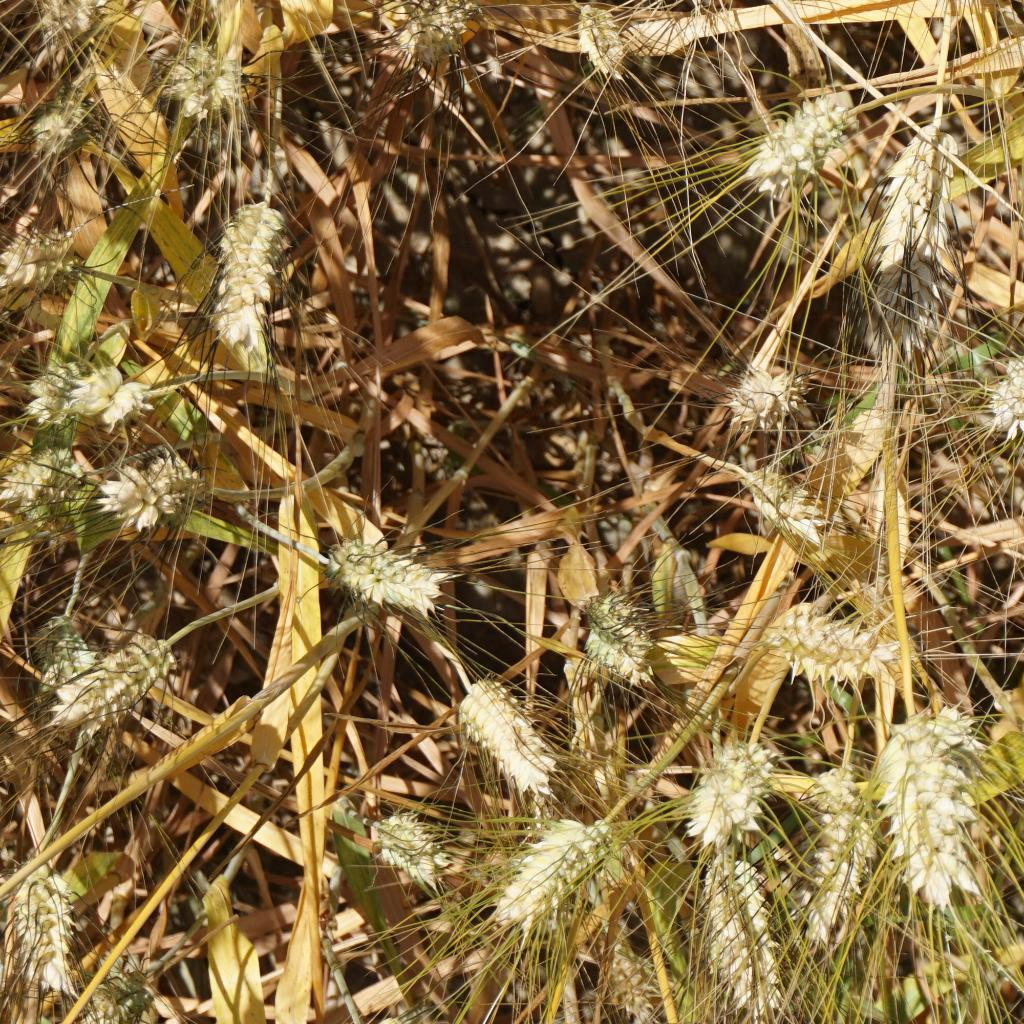0-0: (878, 695, 999, 900), (883, 117, 974, 316), (686, 854, 793, 1019), (445, 674, 570, 801), (790, 772, 883, 929), (207, 195, 289, 373), (775, 582, 896, 685), (13, 867, 102, 1001), (478, 809, 601, 905), (67, 641, 182, 733), (683, 731, 780, 829), (359, 808, 457, 894), (320, 531, 438, 602), (591, 908, 670, 1011), (754, 454, 835, 553), (757, 79, 841, 174), (388, 0, 489, 79), (93, 447, 200, 521), (156, 36, 241, 123), (581, 585, 662, 676), (19, 361, 148, 418), (0, 454, 94, 521), (33, 608, 94, 694), (102, 957, 180, 1024), (0, 219, 70, 289), (570, 0, 630, 79), (727, 361, 790, 435), (28, 99, 103, 158), (985, 334, 1024, 447), (30, 0, 96, 37)
